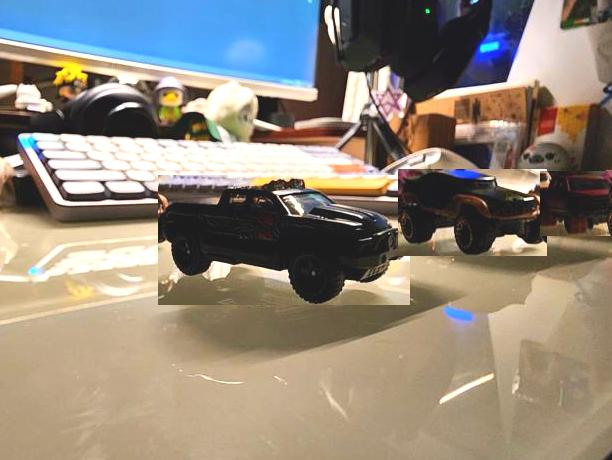toy-car: (158, 176, 410, 306), (398, 169, 547, 256), (540, 171, 612, 236)
